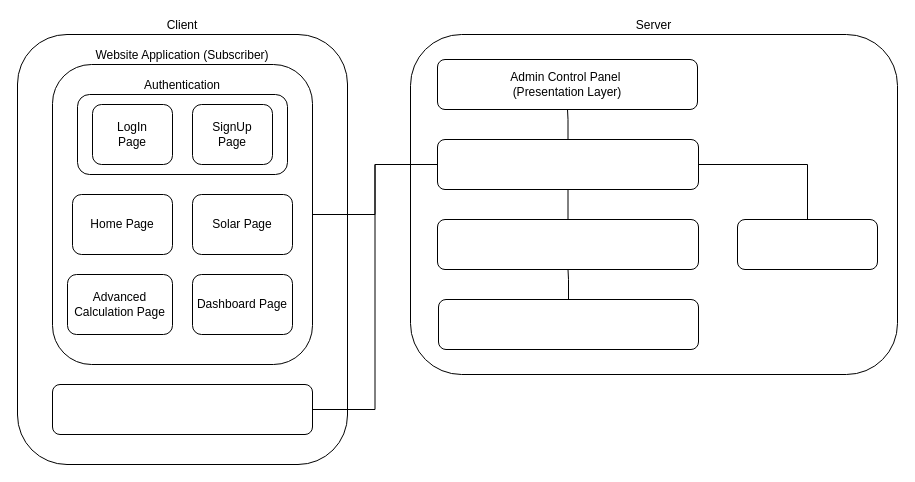
Image size: 915x482. Some labels were removed from this diagram. The centre of each missing label's shape, as x and y in pixels:
Data Access API (Data Access Layer & Publisher): the point at 567,244
Data Logic API (Business Logic Layer & Broker): the point at 567,164
Database (Data Storage Layer): the point at 568,324
Google Solar API (Publisher): the point at 807,244
Report (Subscriber): the point at 182,409
